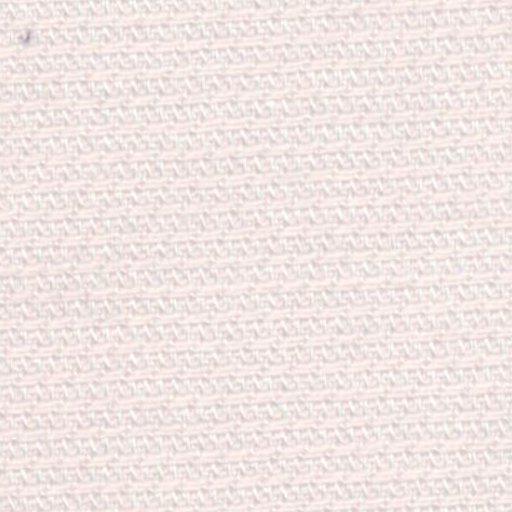WuZi: (7, 16, 47, 48)
